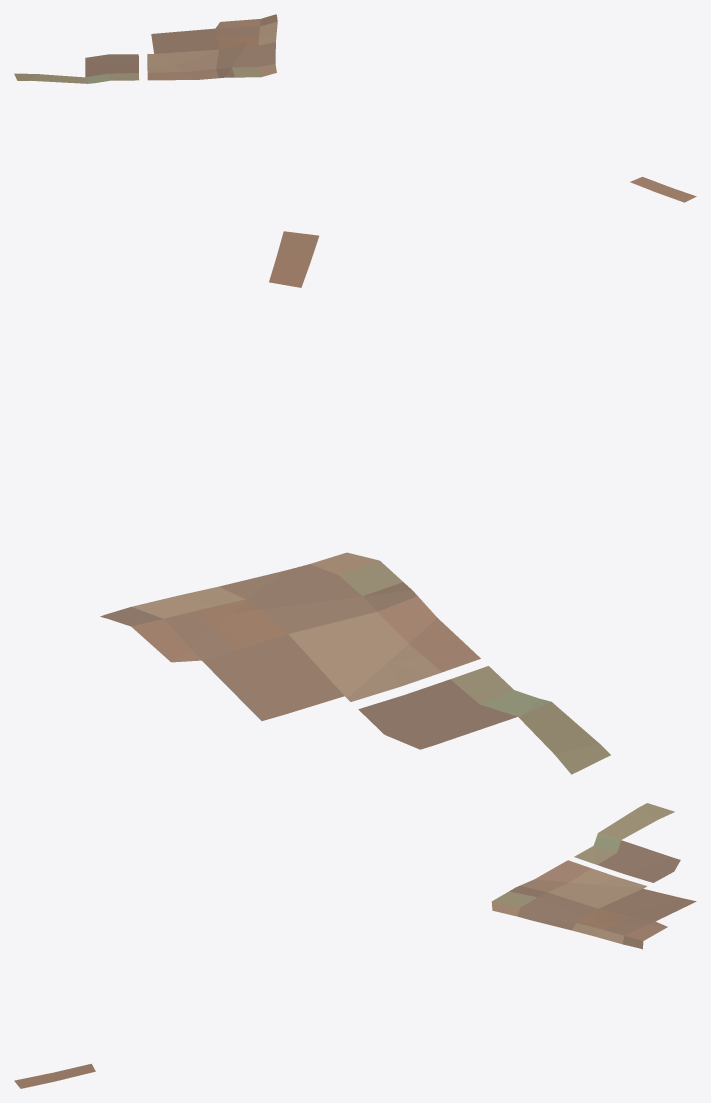
File: farm_-6_6_soil.glb
3 views of the same model, one above another, from view 1: azimuth 30°, elevation 25°; view 2: azimuth 150°, elevation 25°; view 3: azimuth 270°, elevation 25° (orthographic). The views are drawn at different scales.
Parts seen in each view (by area): view 1: geometry_0; view 2: geometry_0; view 3: geometry_0.
Part boxes in pixels (x1,y1,x2,y2): geometry_0: [14, 14, 696, 202]; geometry_0: [100, 231, 610, 774]; geometry_0: [14, 803, 696, 1088].
Size of the model in its own units: 437 by 36.82 by 505.
